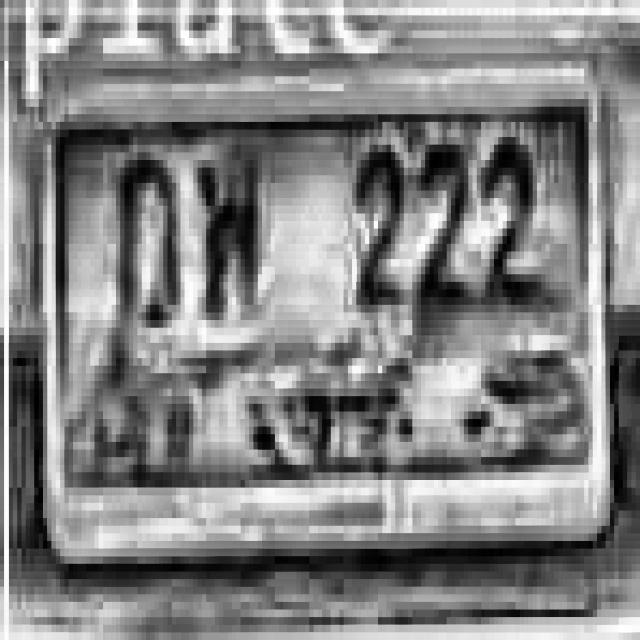license-plate: (34, 71, 617, 576)
